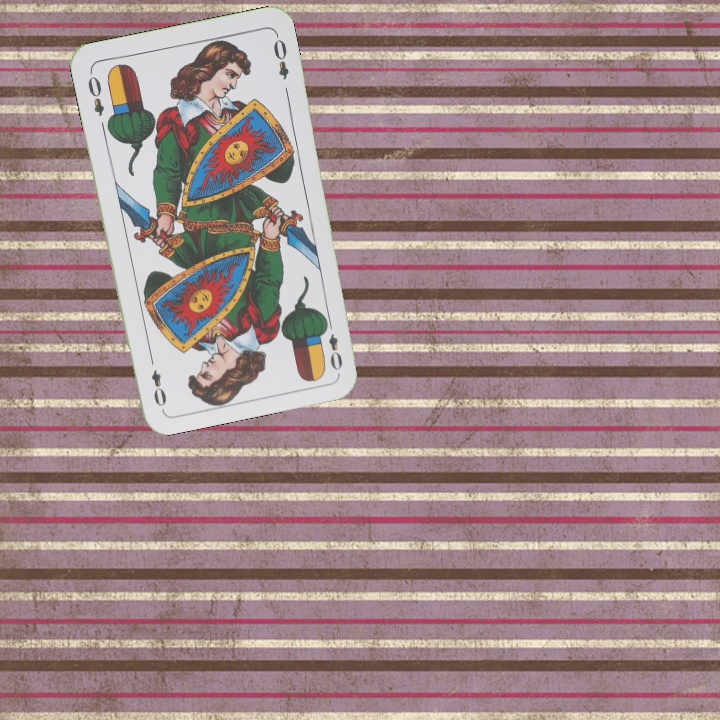EO: (321, 315, 345, 373), (83, 72, 107, 119)
